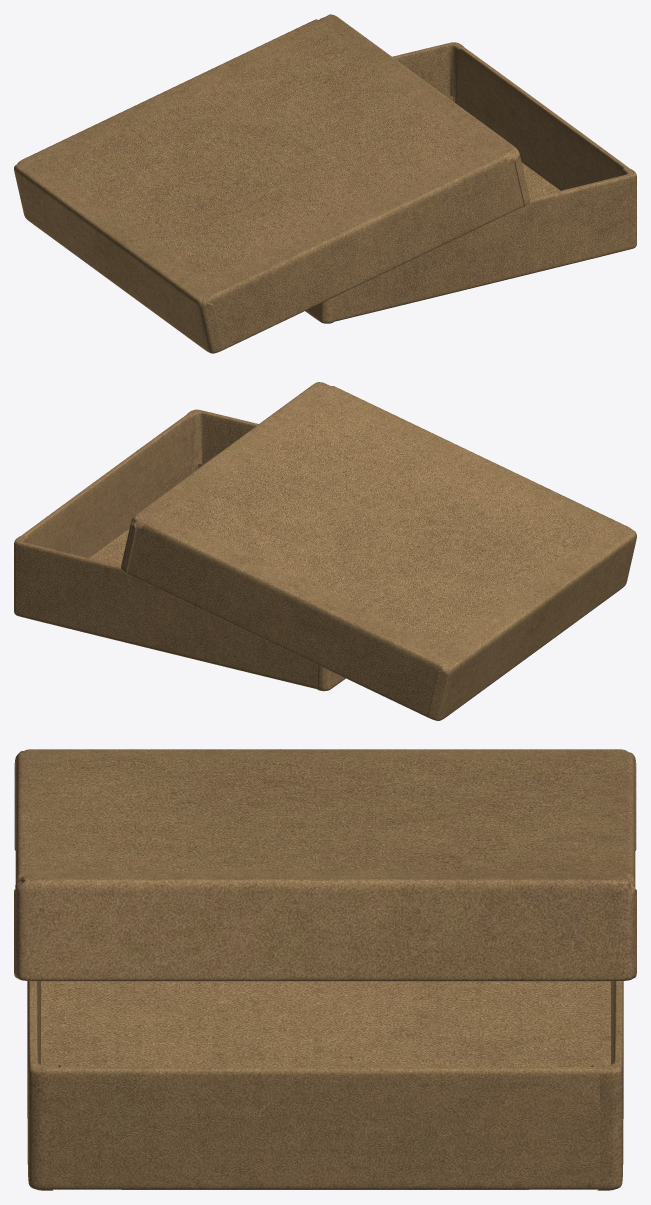
The model's file is PaperBox_Open.gltf.
3 views of the same model, one above another, from view 1: azimuth 30°, elevation 25°; view 2: azimuth 150°, elevation 25°; view 3: azimuth 270°, elevation 25° (orthographic). The views are drawn at different scales.
Visible parts, largest first — view 1: 뚜껑, 상자; view 2: 뚜껑, 상자; view 3: 뚜껑, 상자.
Boxes of the visible parts, x1,y1,x2,y2 form: 뚜껑: (14,14,529,353); 상자: (305,42,636,323); 뚜껑: (121,382,636,720); 상자: (14,409,345,691); 뚜껑: (14,749,636,981); 상자: (27,981,623,1190).
Bounding box in the file's own units: 0.1686 × 0.0476 × 0.1262.
Materials: 1 (1 with a texture image).
